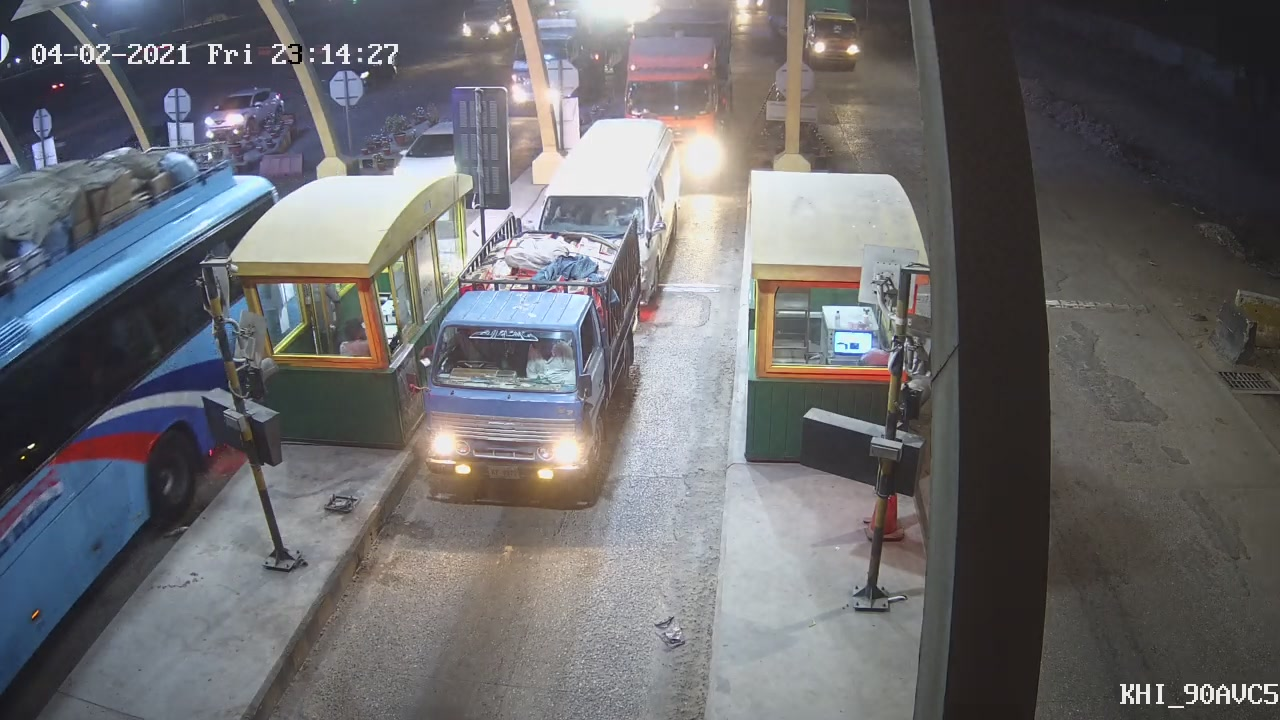F2: (407, 218, 648, 507)
